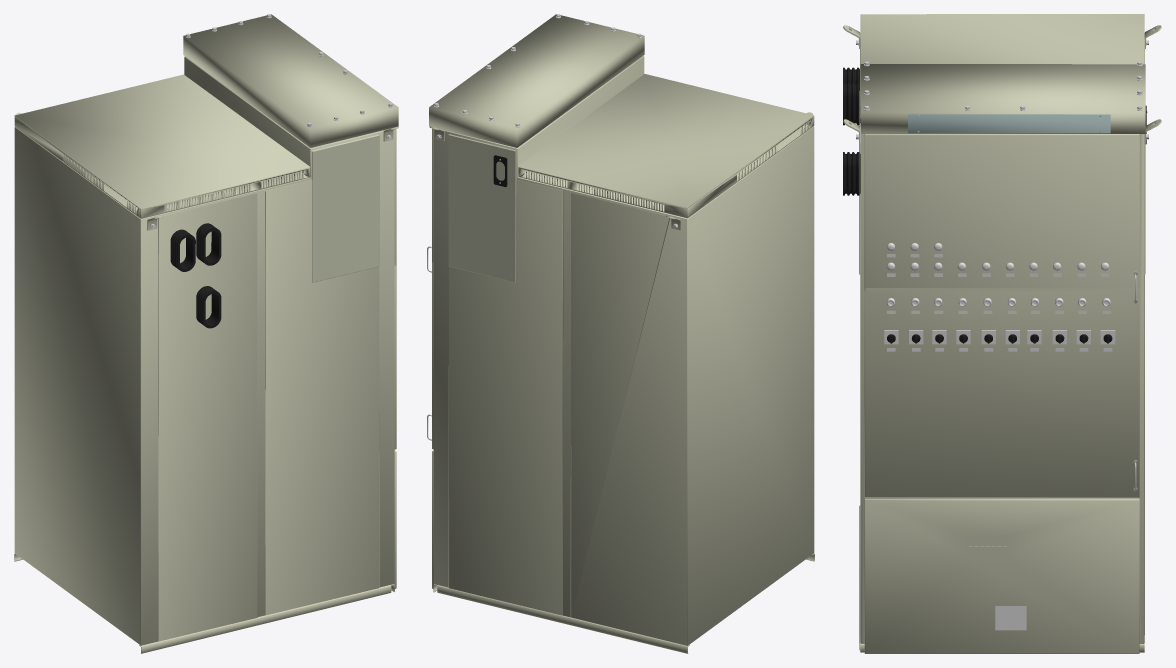
Rendered from Signaliz.fbx.
3 views of the same model, side by side, from view 1: azimuth 30°, elevation 25°; view 2: azimuth 150°, elevation 25°; view 3: azimuth 270°, elevation 25° (orthographic). The views are drawn at different scales.
Parts seen in each view (by area): view 1: Шкаф, Накладки шин; view 2: Шкаф; view 3: Шкаф, Подпись шкафа, Накладки шин, Предупреждающий знак.
Boxes of the visible parts, x1=… form: Шкаф: x1=14, y1=14, x2=398, y2=653; Накладки шин: x1=170, y1=223, x2=221, y2=328; Шкаф: x1=429, y1=14, x2=814, y2=653; Шкаф: x1=843, y1=14, x2=1161, y2=653; Подпись шкафа: x1=908, y1=114, x2=1110, y2=133; Накладки шин: x1=843, y1=67, x2=860, y2=195; Предупреждающий знак: x1=995, y1=606, x2=1026, y2=630.
Bounding box in the file's own units: 143 × 251 × 133.
